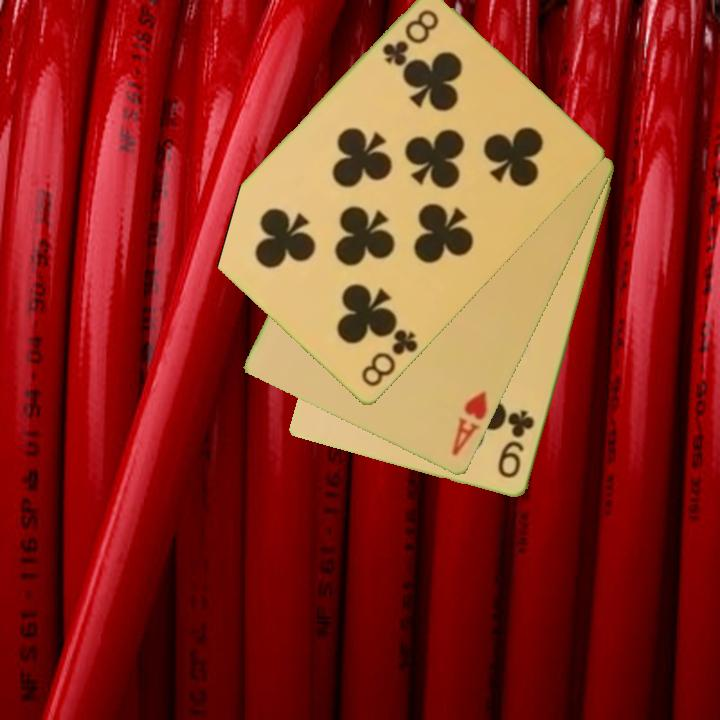8c: (378, 6, 442, 70), (358, 326, 421, 391)
9c: (494, 407, 538, 482)
Ah: (448, 388, 491, 459)
